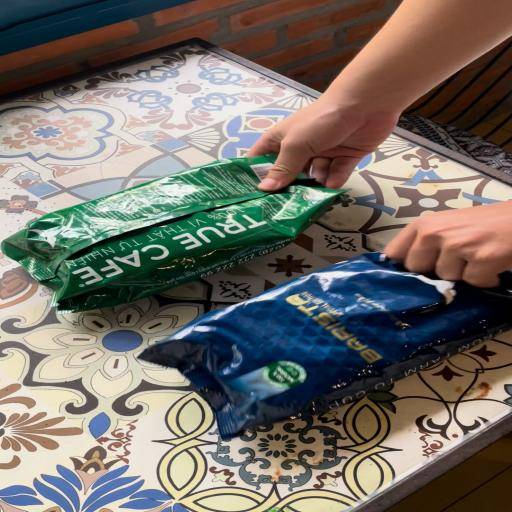cafe_hat: (139, 253, 512, 441)
cafe_xay: (1, 154, 345, 312)
